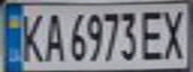3: (118, 8, 142, 62)
6: (66, 9, 87, 62)
7: (103, 9, 121, 62)
9: (84, 9, 106, 62)
A: (39, 9, 66, 63)
E: (136, 7, 169, 62)
K: (15, 8, 48, 63)
X: (157, 6, 190, 61)
